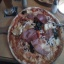pizza: (13, 5, 58, 64)
